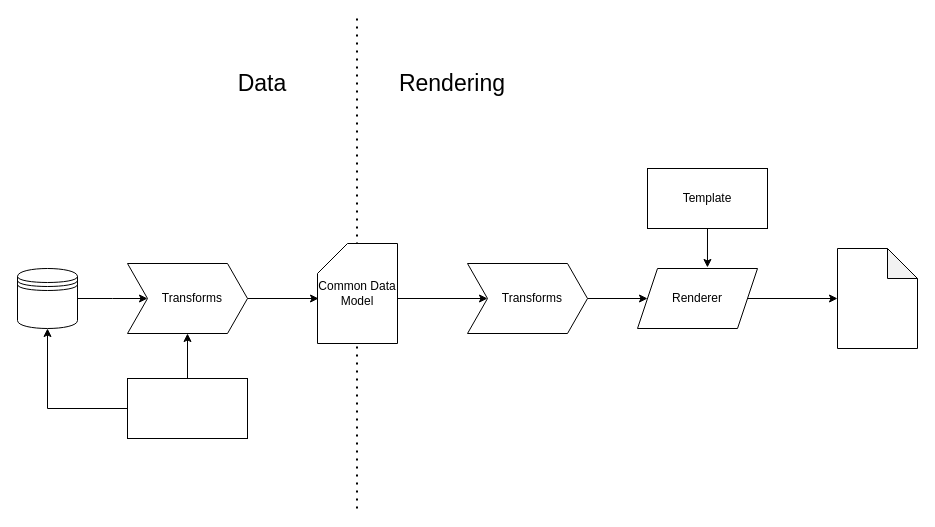
Image size: 935x527. Some labels were removed from this diagram. Here are the shapes that lost their labels. From the top down, the box of each, then its label:
(16, 268, 78, 328): Data Sources
(836, 248, 918, 348): Document
(126, 378, 248, 438): Deterministic UIDs
